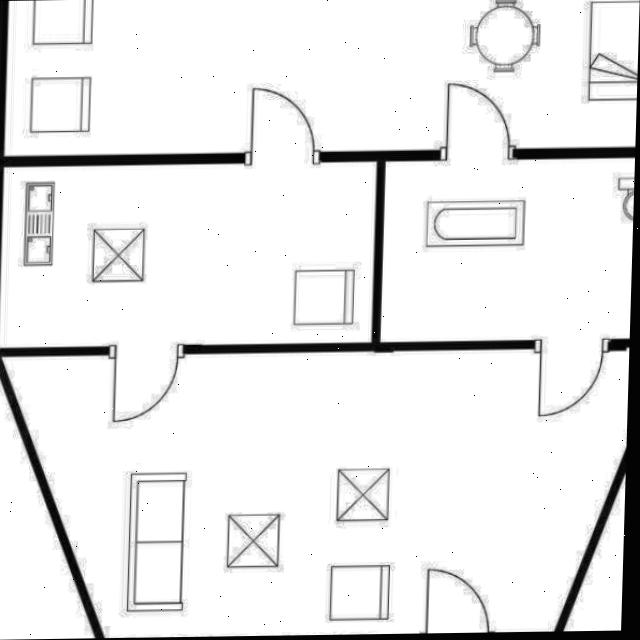room: (1, 347, 634, 640), (4, 0, 640, 155), (0, 160, 379, 347), (378, 157, 638, 341)
